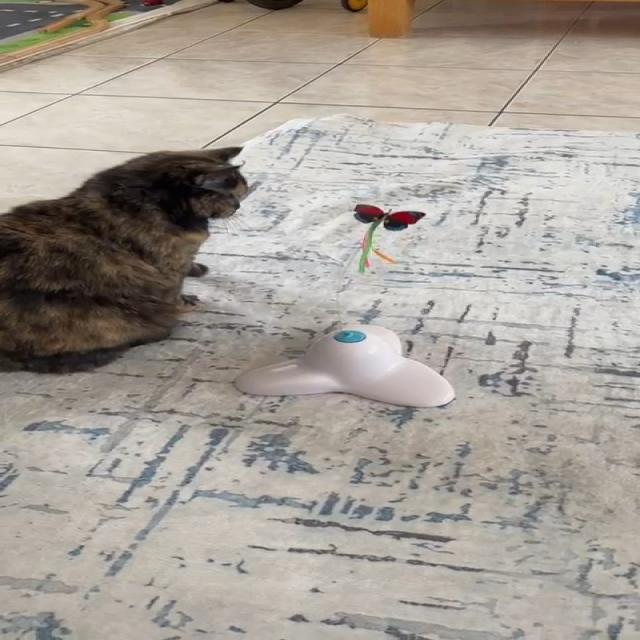authorized: (0, 144, 249, 374)
